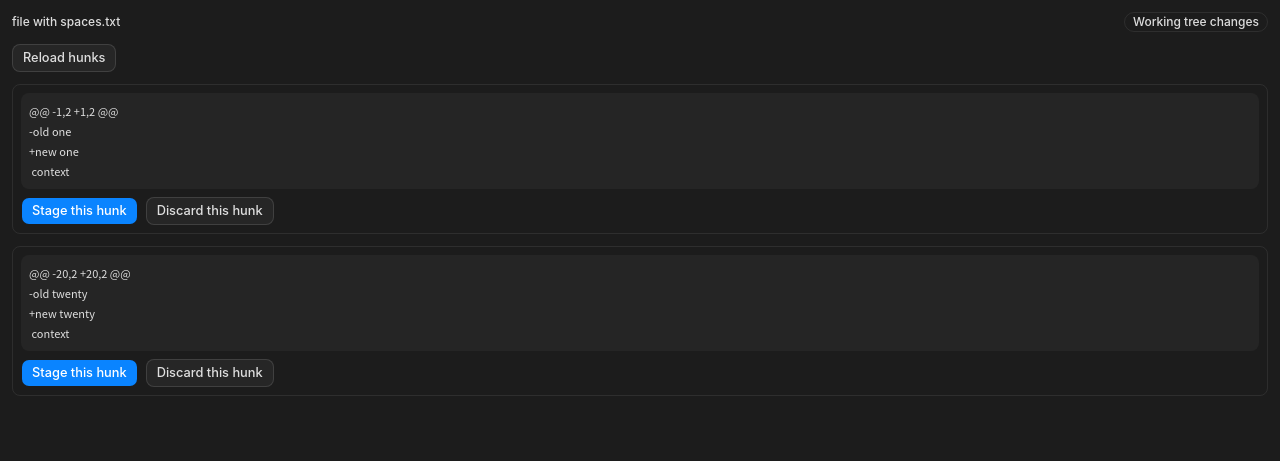
individual changes hunks › does not report a malformed or failed response as success or retry a write
The width and height of the screenshot is (1280, 461).
What coordinates should you click on to do the following:
click the button "Stage this hunk" below "-old one +new one context"
I would click on:
 (79, 211)
Its box is [21,197,138,225].
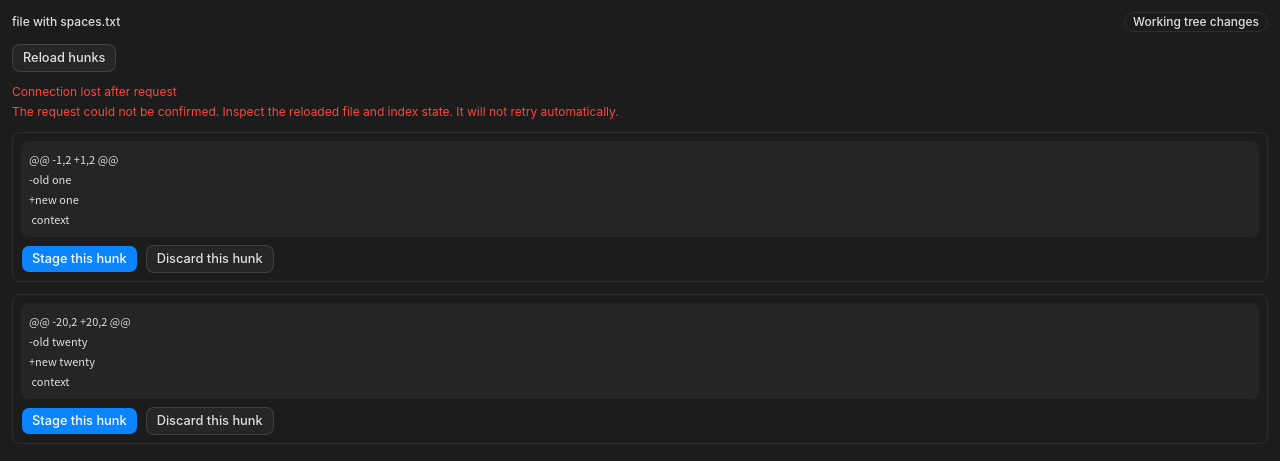
Expected: the text "It will not retry automatically" is shown, [12,104,619,119]
